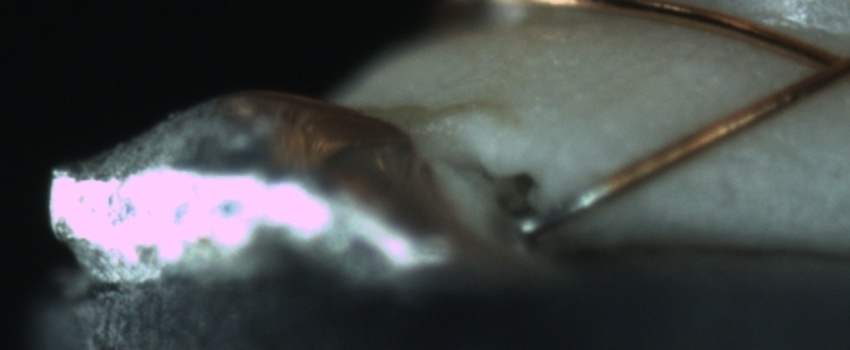CL: (797, 33, 848, 93)
TS: (519, 182, 609, 238)
